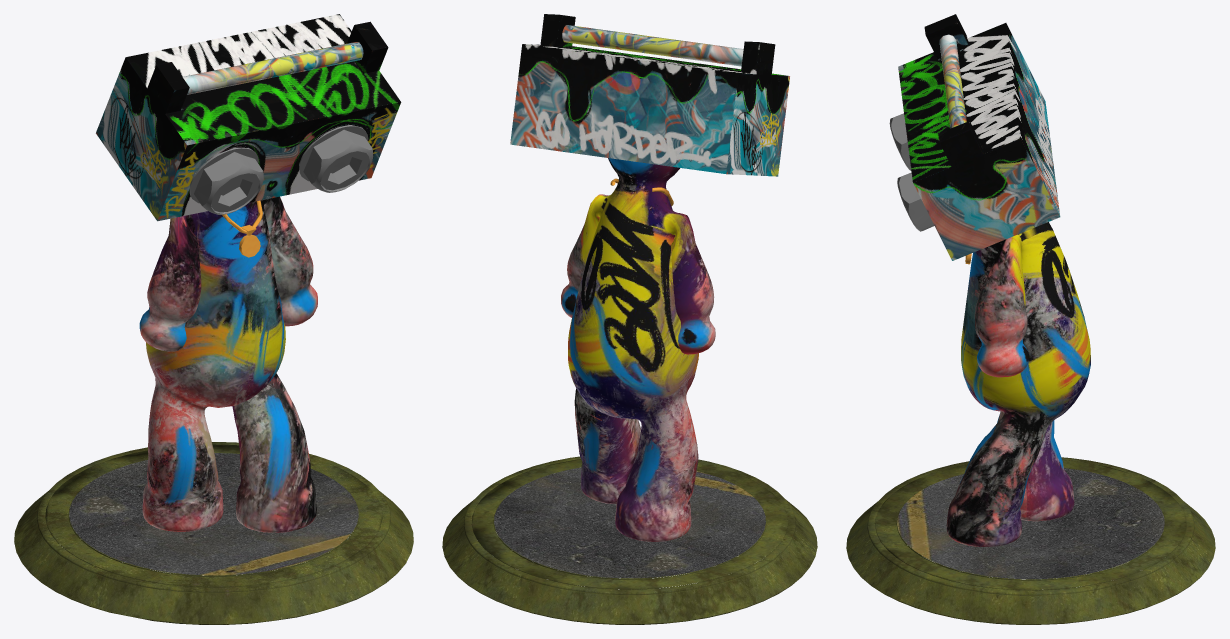
3 renders of one model, left to right at view 1: azimuth 30°, elevation 25°; view 2: azimuth 150°, elevation 25°; view 3: azimuth 270°, elevation 25°, orthographic. The views are drawn at different scales.
Visible parts, largest first — view 1: BBody; view 2: BBody; view 3: BBody.
Boxes of the visible parts, bbox=[...] form: BBody: bbox=[14, 14, 413, 624]; BBody: bbox=[442, 14, 817, 624]; BBody: bbox=[846, 14, 1215, 624].
Bounding box in the file's own units: 1.45 × 2.12 × 1.45.
Materials: 6 (5 with a texture image).
